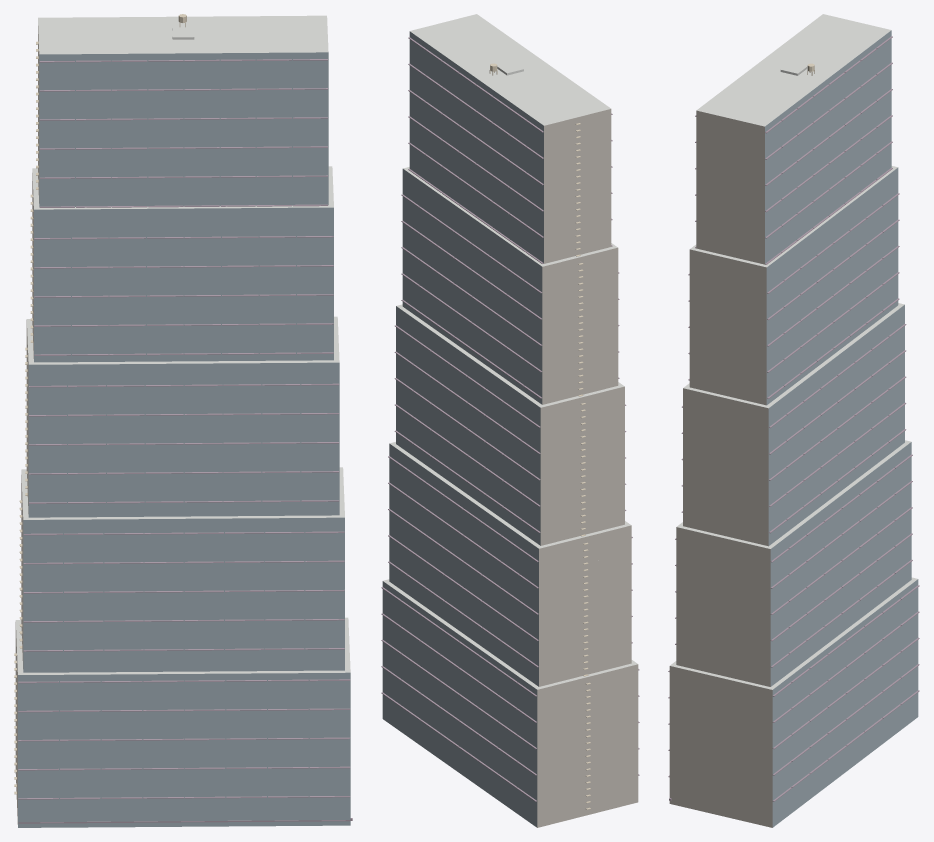
File: doitt-778052__lod_1.glb
The picture shows the model from 3 angles, left to right: view 1: azimuth 30°, elevation 25°; view 2: azimuth 150°, elevation 25°; view 3: azimuth 270°, elevation 25°; orthographic projection. The views are drawn at different scales.
Size of the model in its own units: 159 by 383 by 125.
